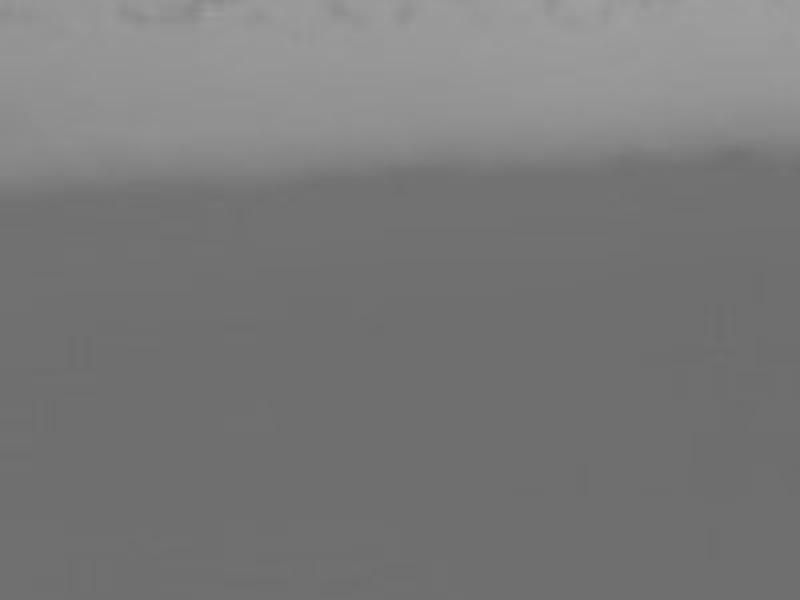defect: (181, 1, 219, 25), (109, 1, 147, 25), (391, 1, 417, 26), (598, 1, 618, 29), (323, 1, 350, 21), (537, 1, 564, 17)
